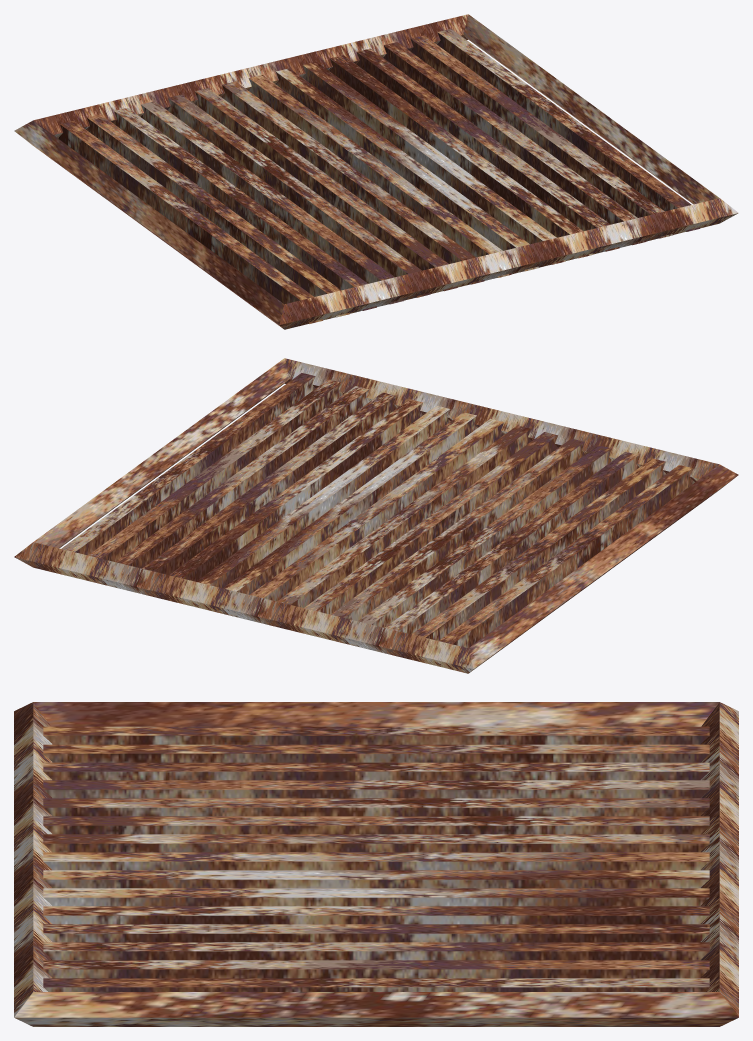
Rendered from Scrap_parts_metal_scrap3.0.glb.
The picture shows the model from 3 angles, top to bottom: view 1: azimuth 30°, elevation 25°; view 2: azimuth 150°, elevation 25°; view 3: azimuth 270°, elevation 25°; orthographic projection. The views are drawn at different scales.
Visible parts, largest first — view 1: Cube; view 2: Cube; view 3: Cube.
Part boxes in pixels (x1,y1,x2,y2): Cube: [14, 14, 738, 329]; Cube: [14, 358, 738, 673]; Cube: [14, 702, 738, 1026].
Bounding box in the file's own units: 2.11 × 0.112 × 2.11.
Materials: 1 (1 with a texture image).
